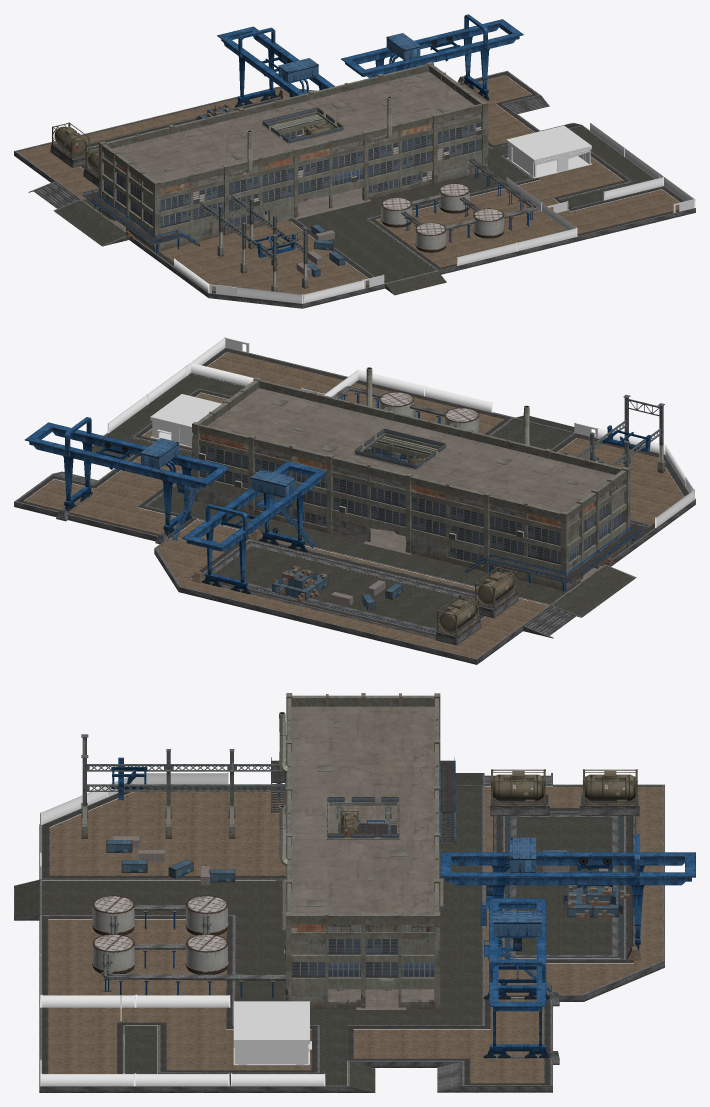
File: Factory envi.fbx
3 renders of one model, top to bottom at view 1: azimuth 30°, elevation 25°; view 2: azimuth 150°, elevation 25°; view 3: azimuth 270°, elevation 25°, orthographic. The views are drawn at different scales.
Parts seen in each view (by area): view 1: Object_20, Object_72, Object_70, Object_12, Object_24, Object_68, Object_54, Object_28, Object_102, Object_22, Object_34, Object_18 (+7 smaller); view 2: Object_20, Object_72, Object_70, Object_12, Object_24, Object_68, Object_54, Object_22, Object_102, Object_34, Object_18, Object_28 (+8 smaller); view 3: Object_72, Object_20, Object_70, Object_12, Object_54, Object_68, Object_28, Object_102, Object_24, Object_34, Object_22, Object_56 (+16 smaller).
Part boxes in pixels (x1,y1,x2,y2): Object_20: (99,62,488,252); Object_72: (17,75,679,294); Object_70: (54,123,653,294); Object_12: (14,71,695,308); Object_24: (104,107,481,228); Object_68: (341,14,523,100); Object_54: (217,26,334,107); Object_28: (381,183,504,252); Object_102: (506,125,591,178); Object_22: (104,96,482,206); Object_34: (199,194,308,285); Object_18: (83,189,200,254); Object_20: (192,377,630,591); Object_72: (24,351,683,658); Object_70: (92,373,635,633); Object_12: (14,348,695,664); Object_24: (199,428,624,573); Object_68: (25,417,230,540); Object_54: (182,461,327,594); Object_22: (198,367,624,541); Object_102: (150,394,221,447); Object_34: (564,394,664,467); Object_18: (535,520,647,594); Object_28: (379,391,479,432); Object_72: (48,786,662,1083); Object_20: (276,693,443,1009); Object_70: (14,773,623,1091); Object_12: (14,773,664,1092); Object_54: (440,834,695,950); Object_68: (483,898,551,1057); Object_28: (92,895,228,974); Object_102: (233,1001,311,1065); Object_24: (291,797,434,977); Object_34: (81,734,287,824); Object_22: (279,711,434,931); Object_56: (582,769,637,805).
Size of what is drawn, in the model's own units: 14942 by 3082 by 13459.
Materials: 17 (15 with a texture image).
